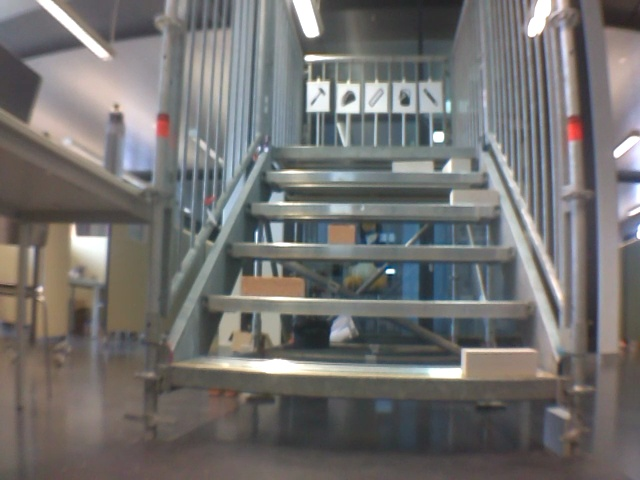brick: (461, 348, 537, 376), (242, 277, 303, 297), (451, 190, 498, 205), (327, 226, 354, 243), (392, 160, 432, 171), (443, 158, 470, 171)
bucket: (395, 87, 414, 107)
edge: (170, 368, 554, 399), (202, 295, 537, 318), (227, 244, 516, 259), (246, 202, 500, 216), (264, 172, 488, 183), (273, 146, 473, 156)
hammer: (309, 86, 329, 109)
pencil: (421, 86, 442, 110)
ruler: (368, 87, 384, 108)
stairs: (143, 1, 590, 455)
steps: (161, 144, 560, 403)
taco: (340, 88, 357, 110)
